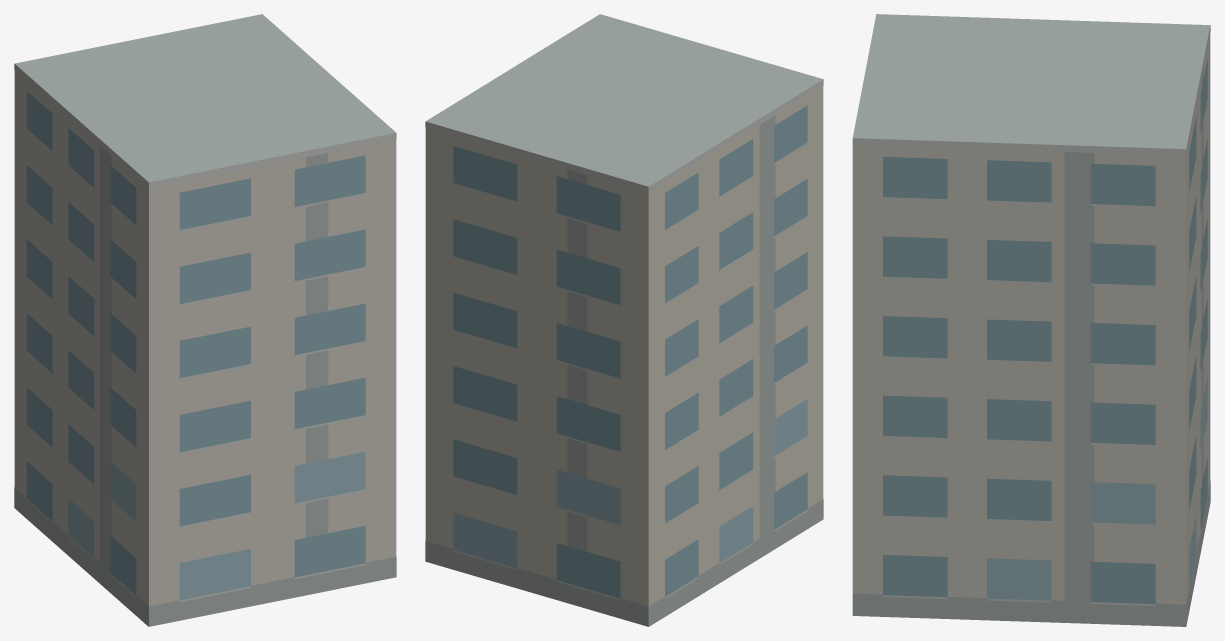
The model's file is survey-upis-32659242.glb.
The picture shows the model from 3 angles, left to right: view 1: azimuth 30°, elevation 25°; view 2: azimuth 150°, elevation 25°; view 3: azimuth 270°, elevation 25°; orthographic projection. The views are drawn at different scales.
Parts seen in each view (by area): view 1: survey-upis-32659242.tmp; view 2: survey-upis-32659242.tmp; view 3: survey-upis-32659242.tmp.
Boxes of the visible parts, x1,y1,x2,y2 form: survey-upis-32659242.tmp: [14, 14, 396, 626]; survey-upis-32659242.tmp: [425, 14, 823, 626]; survey-upis-32659242.tmp: [852, 14, 1210, 626].
Bounding box in the file's own units: 10.39 × 17.1 × 11.62.
